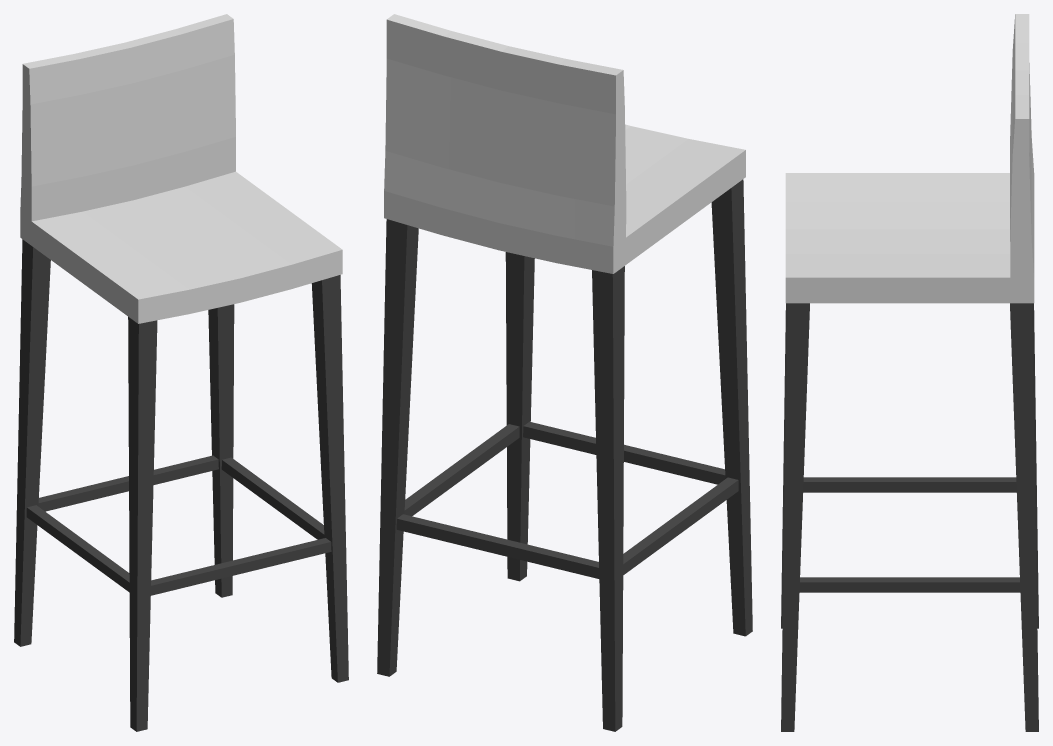
Rendered from Chair_02_C2.fbx.
3 renders of one model, left to right at view 1: azimuth 30°, elevation 25°; view 2: azimuth 150°, elevation 25°; view 3: azimuth 270°, elevation 25°, orthographic. The views are drawn at different scales.
Visible parts, largest first — view 1: Chair_02_C2; view 2: Chair_02_C2; view 3: Chair_02_C2.
Boxes of the visible parts, box(x1,y1,x2,y2) form: Chair_02_C2: box(14, 14, 348, 731); Chair_02_C2: box(377, 14, 752, 731); Chair_02_C2: box(781, 14, 1038, 731).
Size of the model in its own units: 33.75 by 88.23 by 33.75.
